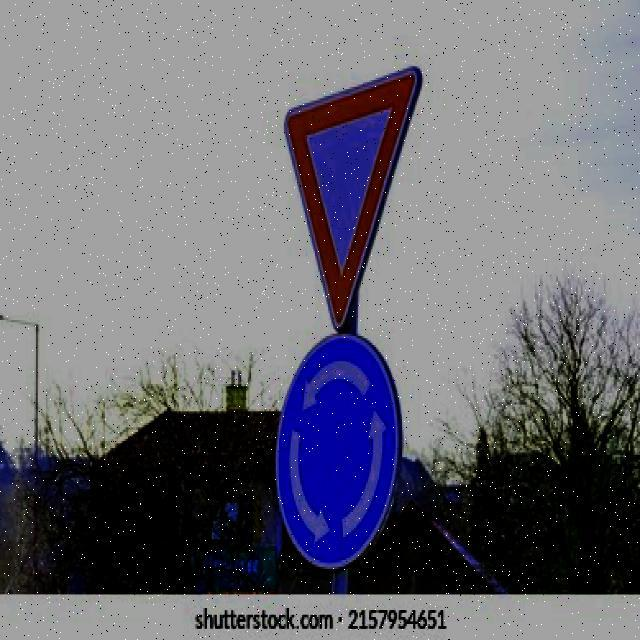Traffic sign: (274, 64, 429, 572)
